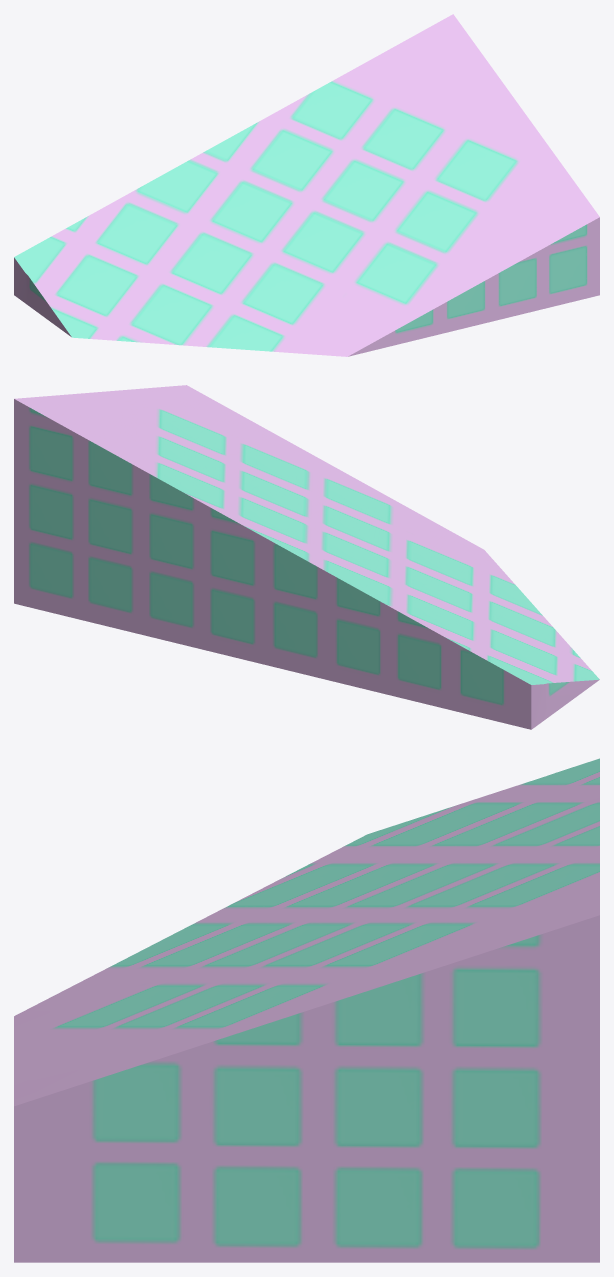
Rendered from r1Shard2.fbx.
3 renders of one model, top to bottom at view 1: azimuth 30°, elevation 25°; view 2: azimuth 150°, elevation 25°; view 3: azimuth 270°, elevation 25°, orthographic. The views are drawn at different scales.
Parts seen in each view (by area): view 1: shard75; view 2: shard75; view 3: shard75.
Boxes of the visible parts, bbox=[...] form: shard75: bbox=[14, 14, 599, 356]; shard75: bbox=[14, 385, 599, 729]; shard75: bbox=[14, 758, 599, 1262].
Size of the model in its own units: 0.1536 by 0.0581 by 0.0888.
1 material, 1 textured.
